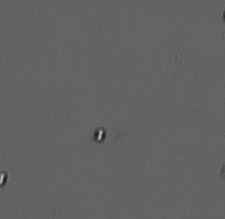Living Cell: (93, 125, 106, 143), (1, 171, 8, 189)
